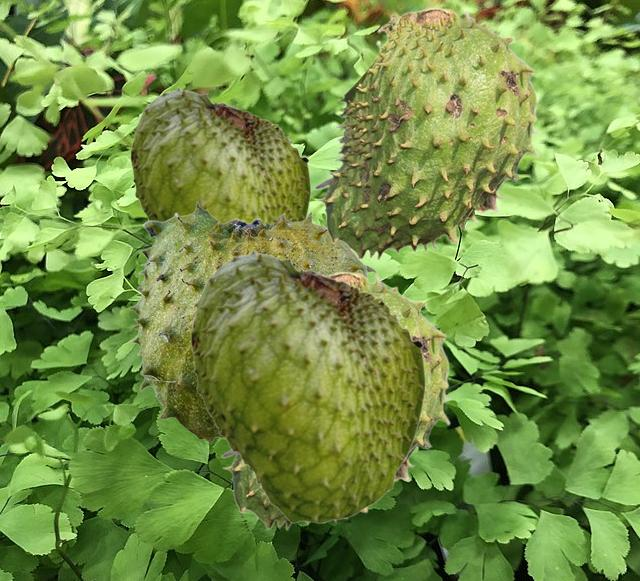guyabano: (190, 247, 425, 523), (128, 200, 376, 442), (220, 271, 451, 530), (313, 7, 539, 260), (130, 85, 310, 223)
